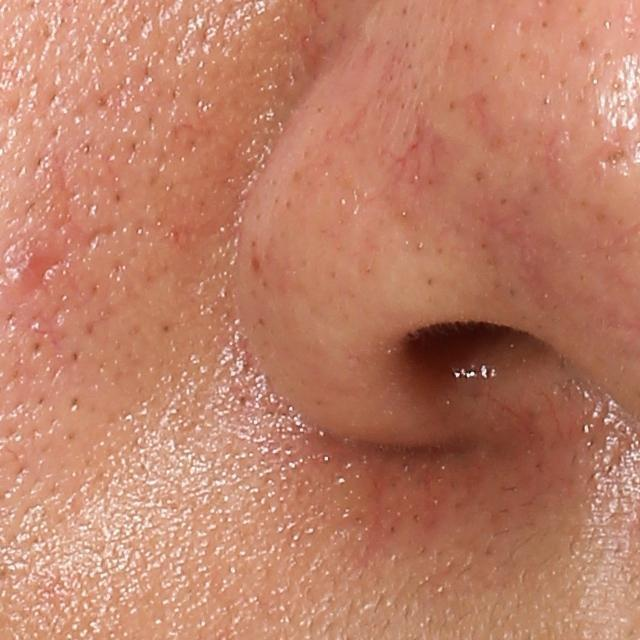papule: (2, 245, 49, 289)
